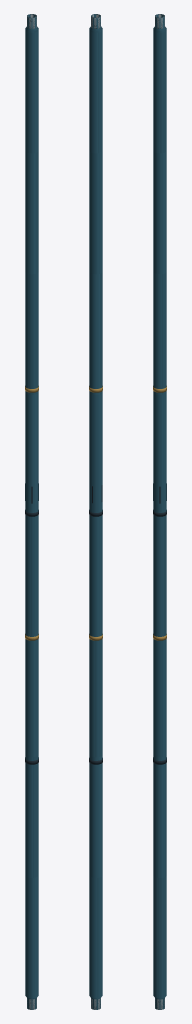
The model's file is mwd.glb.
The picture shows the model from 3 angles, left to right: view 1: azimuth 90°, elevation 25°; view 2: azimuth 150°, elevation 25°; view 3: azimuth 270°, elevation 25°; orthographic projection.
Visible parts, largest first — view 1: tool-housing; view 2: tool-housing; view 3: tool-housing.
Part boxes in pixels (x1,y1,x2,y2): tool-housing: [25, 14, 38, 1009]; tool-housing: [89, 14, 102, 1009]; tool-housing: [153, 14, 166, 1009].
Size of the model in its own units: 0.1196 by 9.37 by 0.1196.
Materials: 4 (4 with a texture image).
